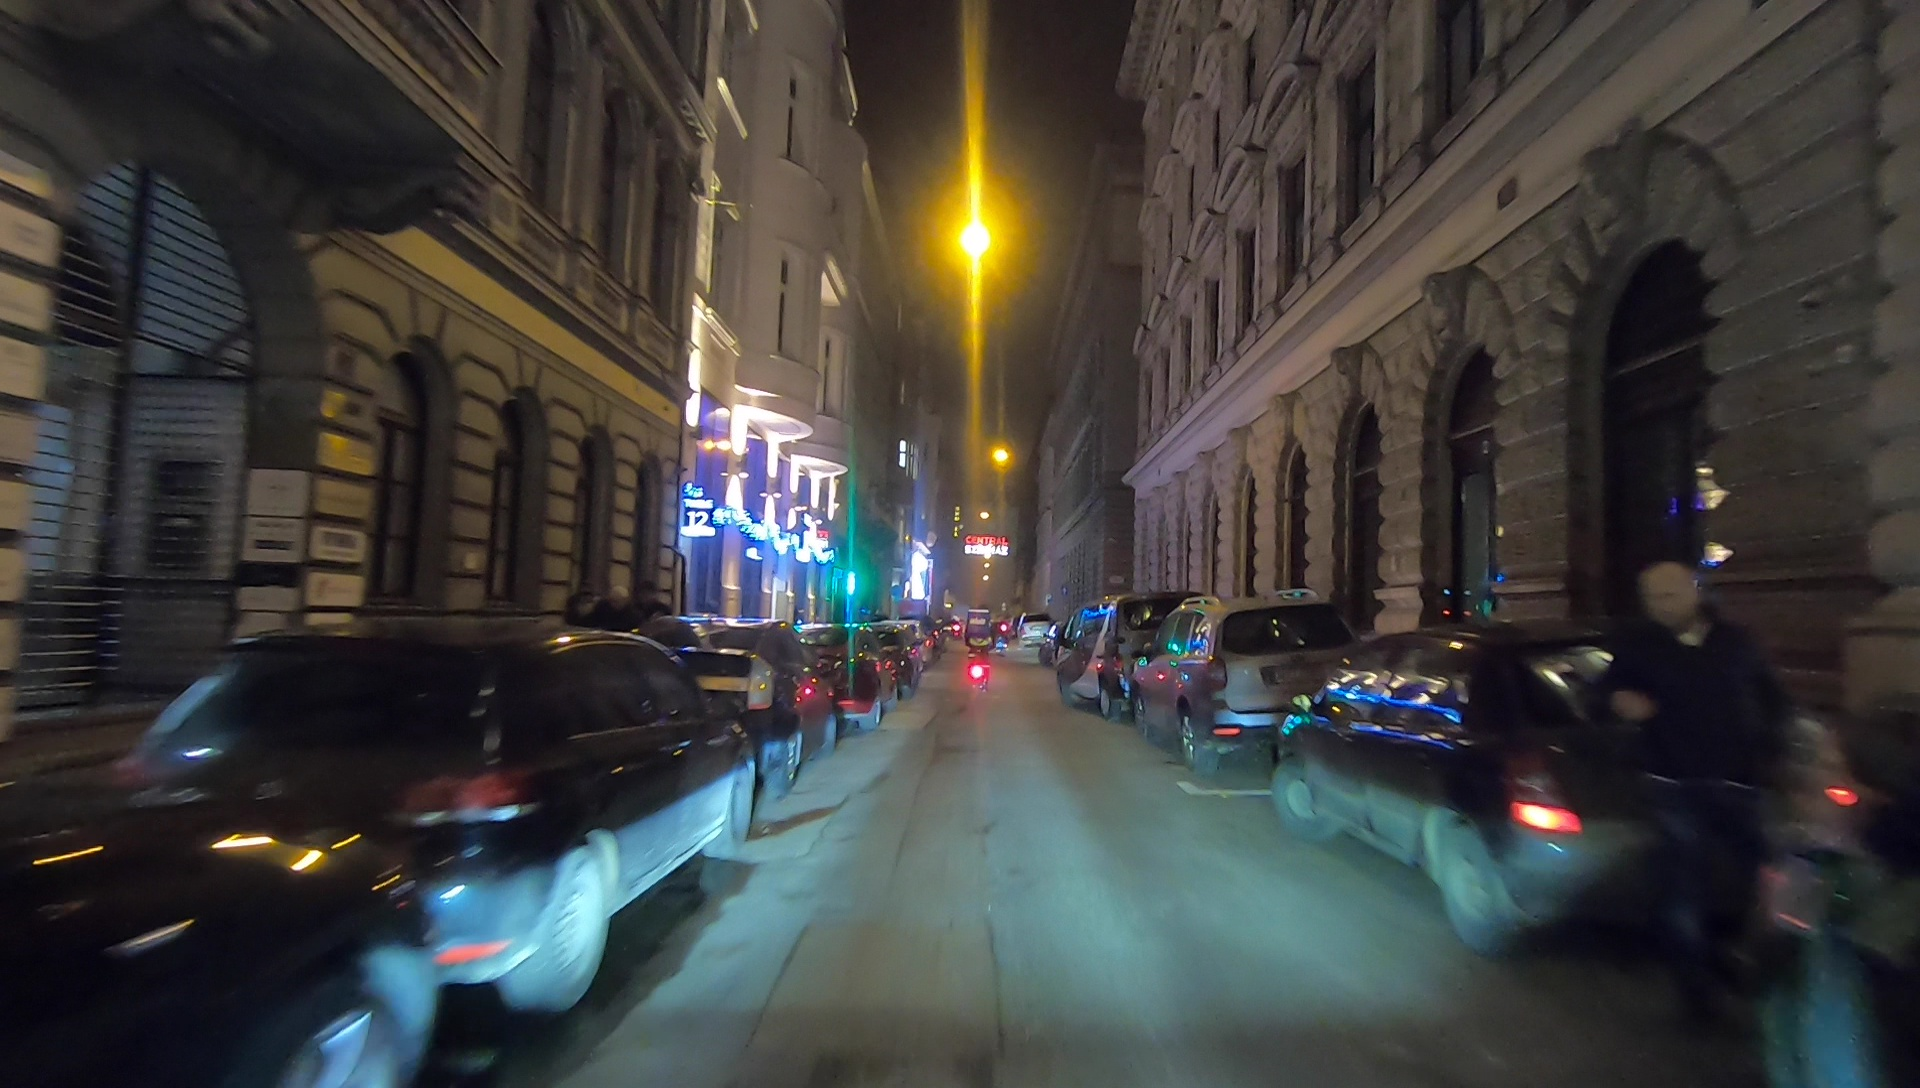person: (1610, 565, 1778, 1002)
